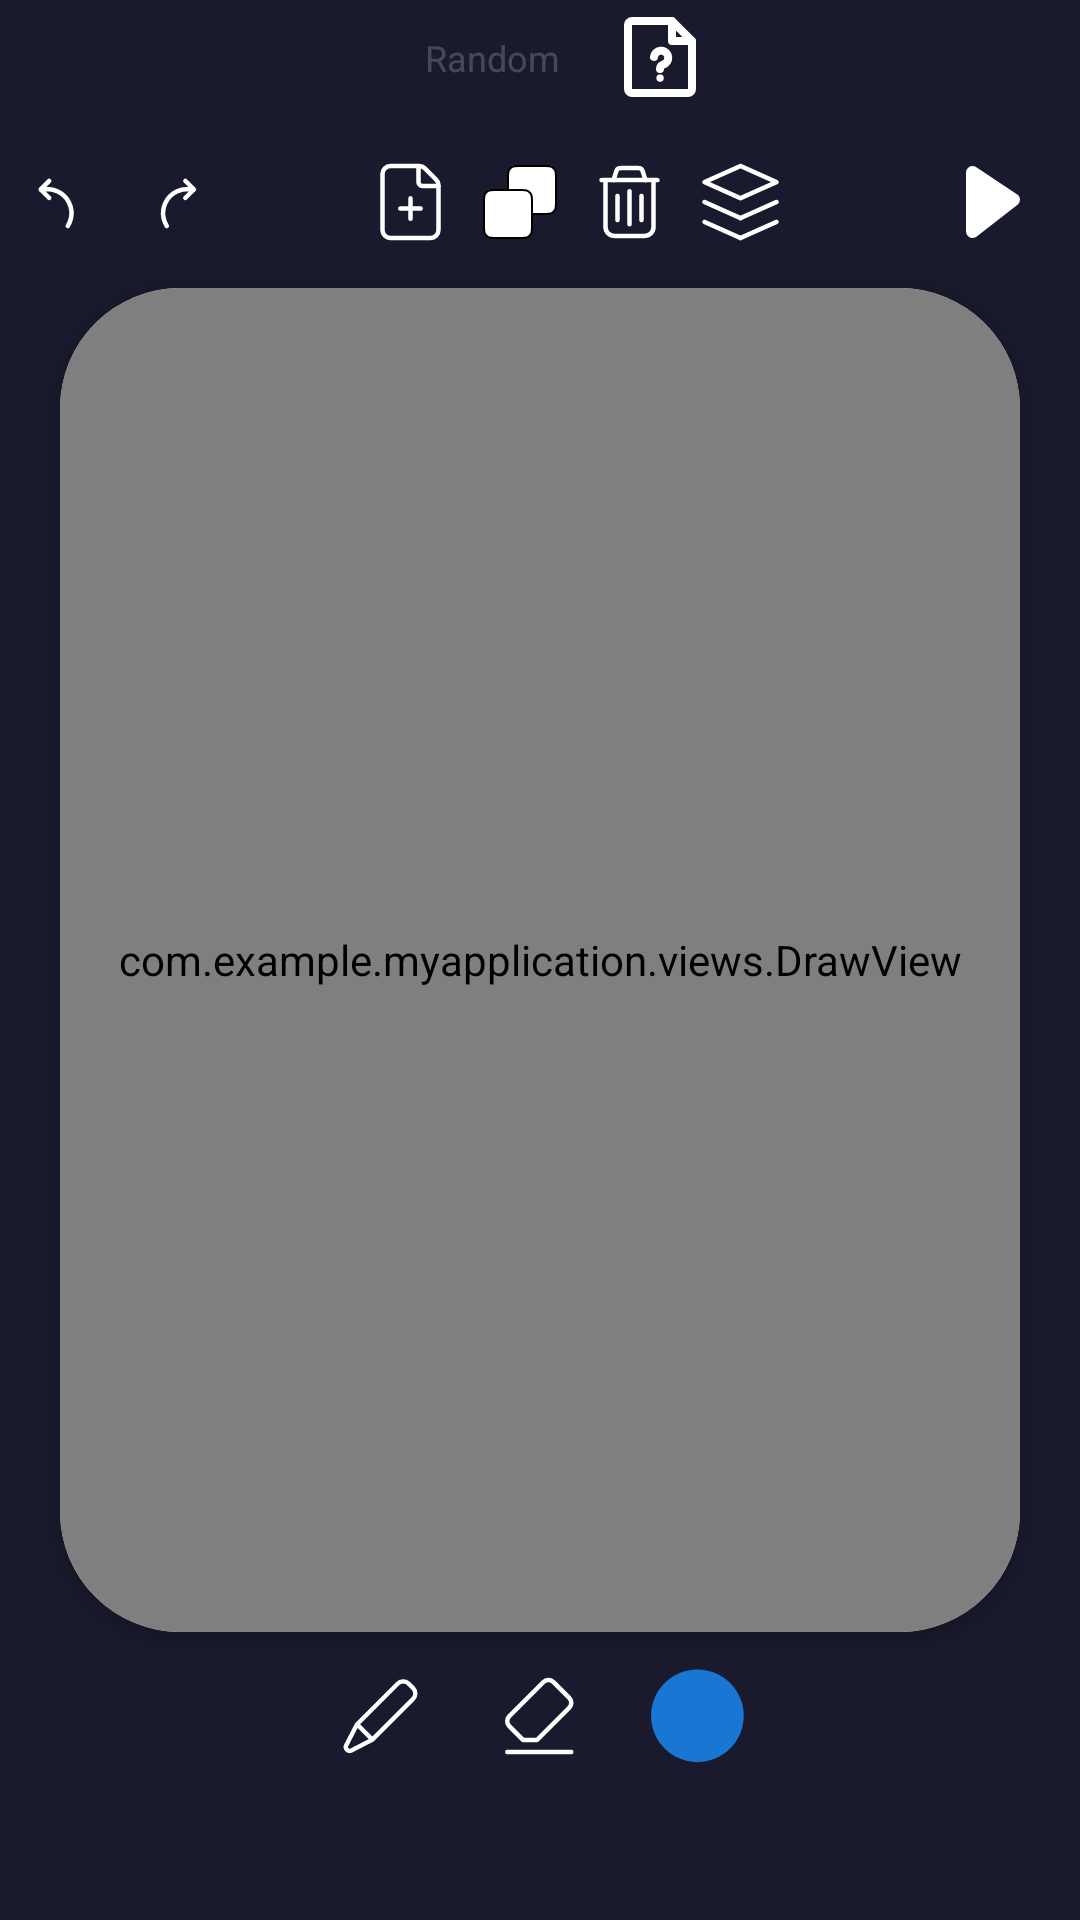

Where icons sit on this 1080px x 1920px app screen, as (x1, y1, x2, y2):
bin: (599, 165, 660, 239)
duplicate: (483, 165, 557, 239)
eraser: (505, 1677, 574, 1755)
page: (380, 163, 441, 241)
Page list: (702, 163, 779, 241)
pencil: (343, 1679, 418, 1754)
Play video: (966, 166, 1020, 238)
redo: (160, 178, 197, 229)
undo: (38, 178, 74, 229)
